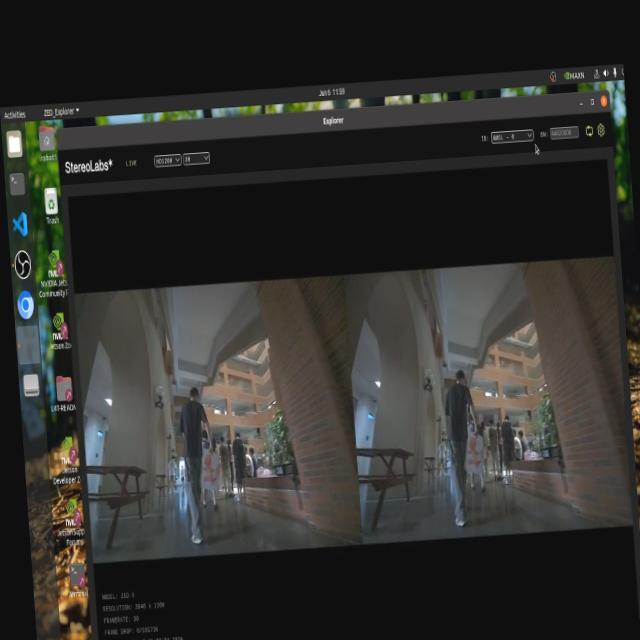red: (195, 450, 222, 498), (467, 434, 485, 476)
